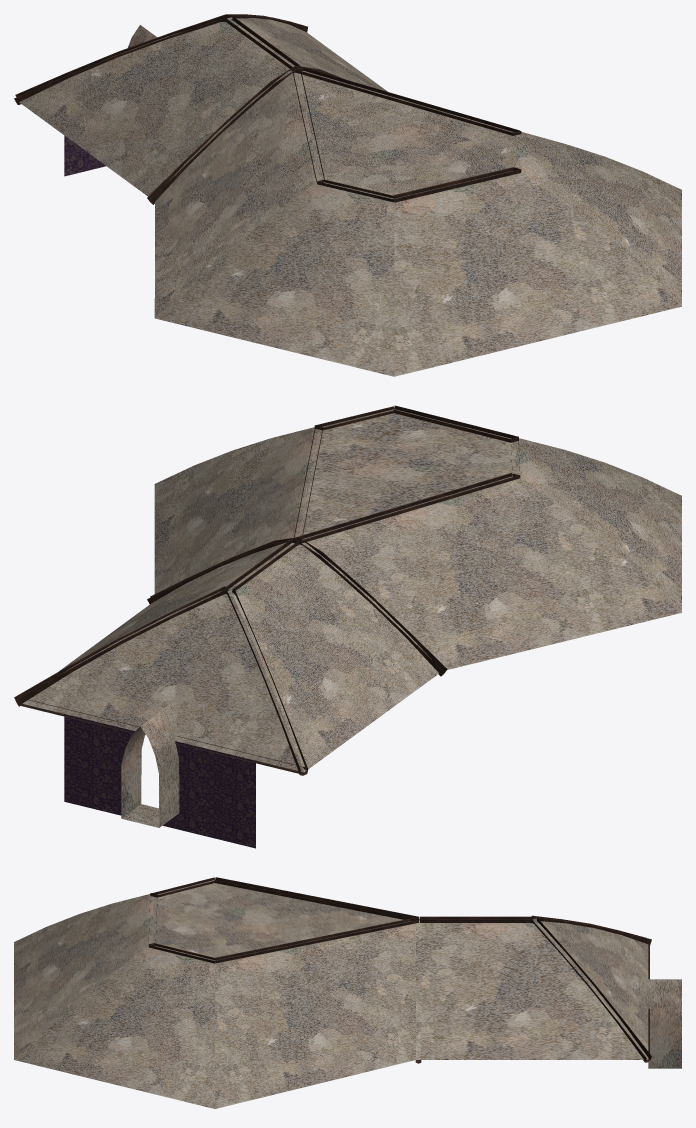
Rendered from Room_ba_ceiling.fbx.
3 views of the same model, one above another, from view 1: azimuth 30°, elevation 25°; view 2: azimuth 150°, elevation 25°; view 3: azimuth 270°, elevation 25° (orthographic). The views are drawn at different scales.
Visible parts, largest first — view 1: Room_ba_ceiling; view 2: Room_ba_ceiling; view 3: Room_ba_ceiling.
Part boxes in pixels (bbox=[...]): Room_ba_ceiling: bbox=[14, 14, 681, 376]; Room_ba_ceiling: bbox=[14, 405, 681, 848]; Room_ba_ceiling: bbox=[14, 877, 681, 1108].
Bounding box in the file's own units: 1101 × 374 × 1439.
